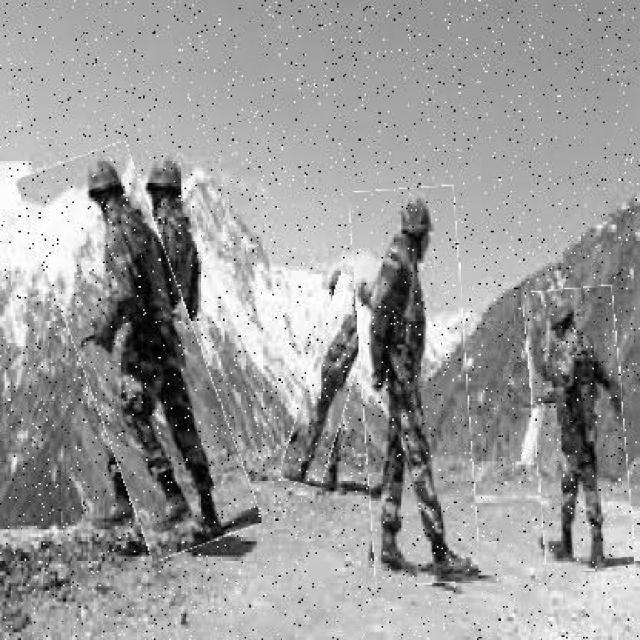Person: (50, 146, 232, 560), (358, 187, 475, 586), (530, 287, 632, 572), (297, 266, 371, 489)
